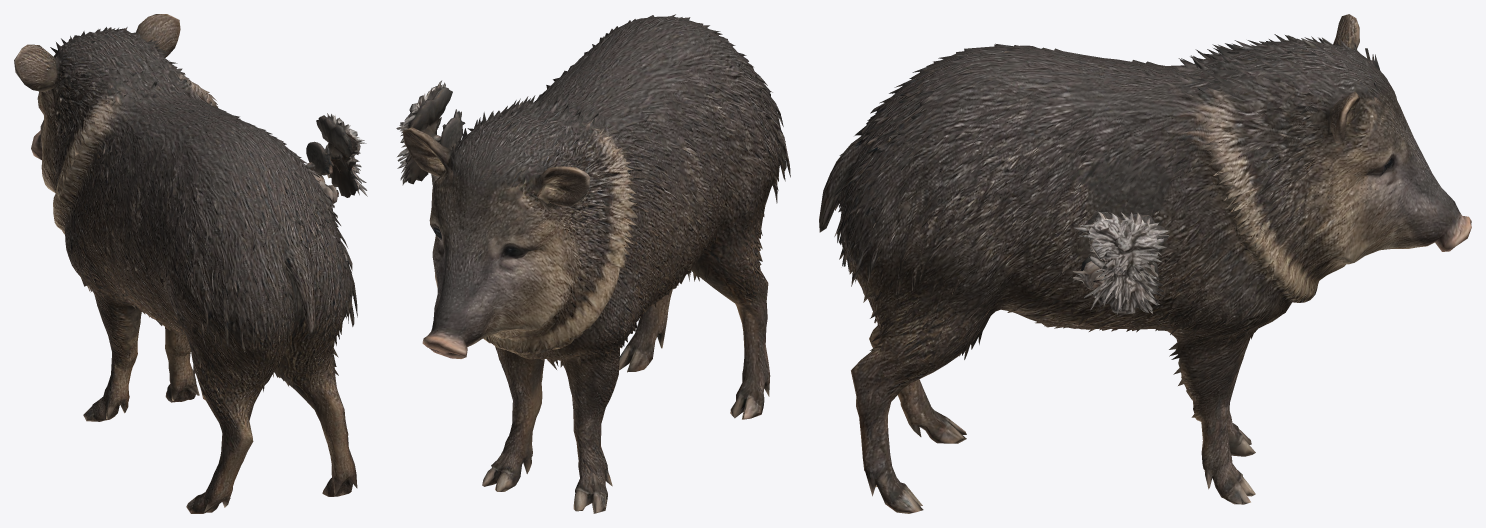
Rendered from peccary-tripo-h31.glb.
The picture shows the model from 3 angles, left to right: view 1: azimuth 30°, elevation 25°; view 2: azimuth 150°, elevation 25°; view 3: azimuth 270°, elevation 25°; orthographic projection. The views are drawn at different scales.
Visible parts, largest first — view 1: tripo_node_2e577e66-57f6-4d7f-b6a9-c24ef72e1f07; view 2: tripo_node_2e577e66-57f6-4d7f-b6a9-c24ef72e1f07; view 3: tripo_node_2e577e66-57f6-4d7f-b6a9-c24ef72e1f07.
Boxes of the visible parts, x1,y1,x2,y2 form: tripo_node_2e577e66-57f6-4d7f-b6a9-c24ef72e1f07: (14, 14, 367, 513); tripo_node_2e577e66-57f6-4d7f-b6a9-c24ef72e1f07: (396, 14, 790, 513); tripo_node_2e577e66-57f6-4d7f-b6a9-c24ef72e1f07: (819, 14, 1471, 513).
Bounding box in the file's own units: 0.5261 × 0.7155 × 0.9796.
Materials: 1 (1 with a texture image).
